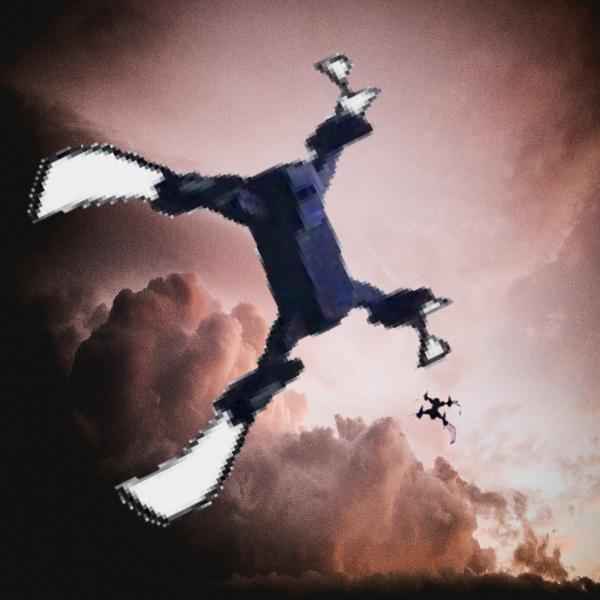drone: (34, 67, 469, 502), (404, 387, 465, 448)
